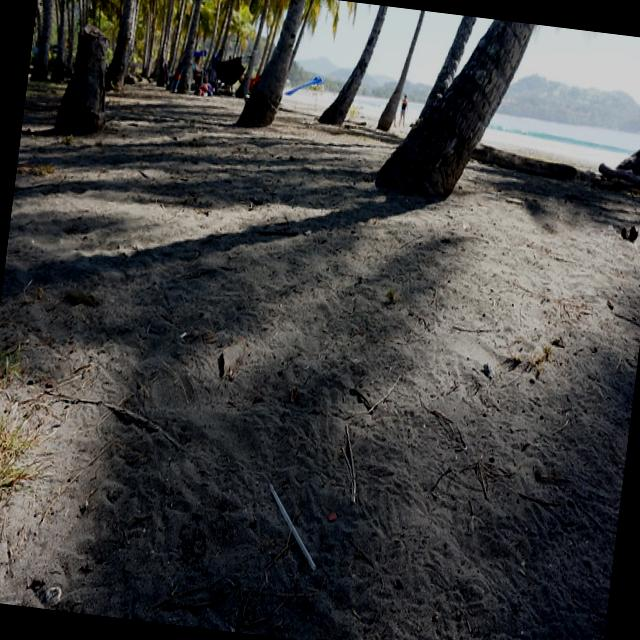Recycle: (259, 482, 324, 570)
